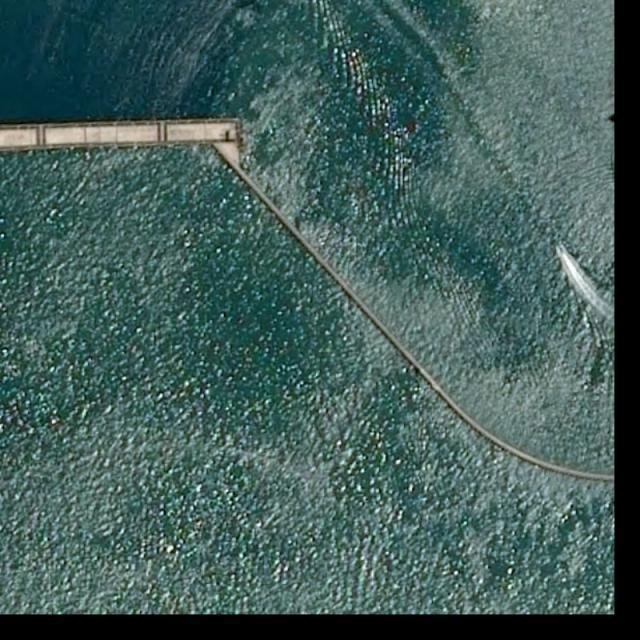ship: (557, 243, 566, 255)
